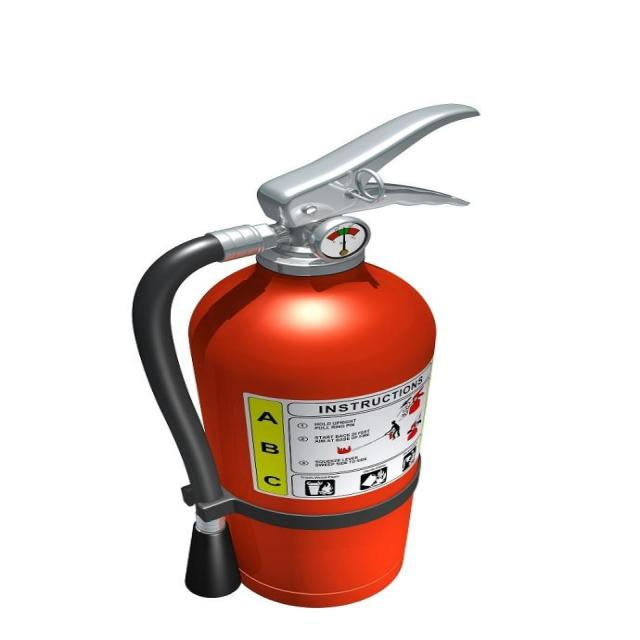fire_extinguisher: (123, 99, 487, 614)
